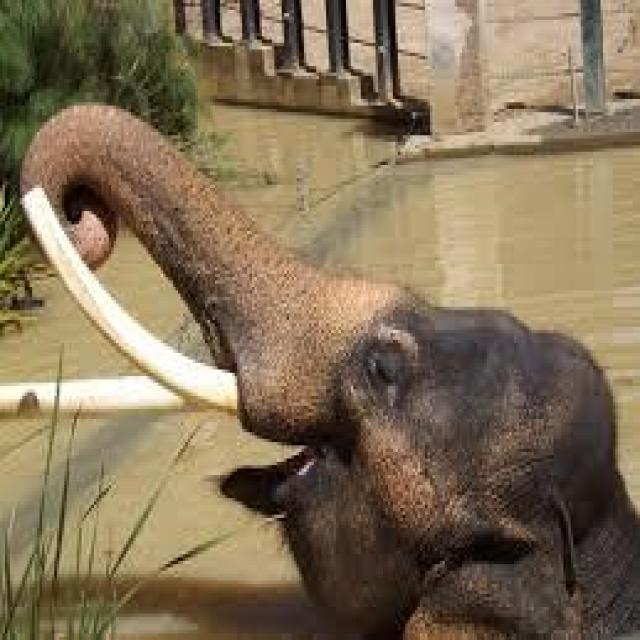Elephant: (20, 96, 638, 636)
